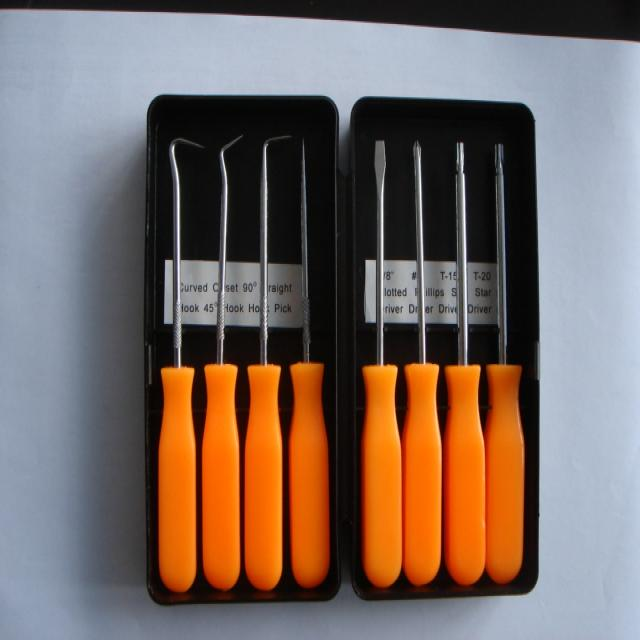screw_driver: (361, 140, 405, 590), (406, 142, 442, 590)
